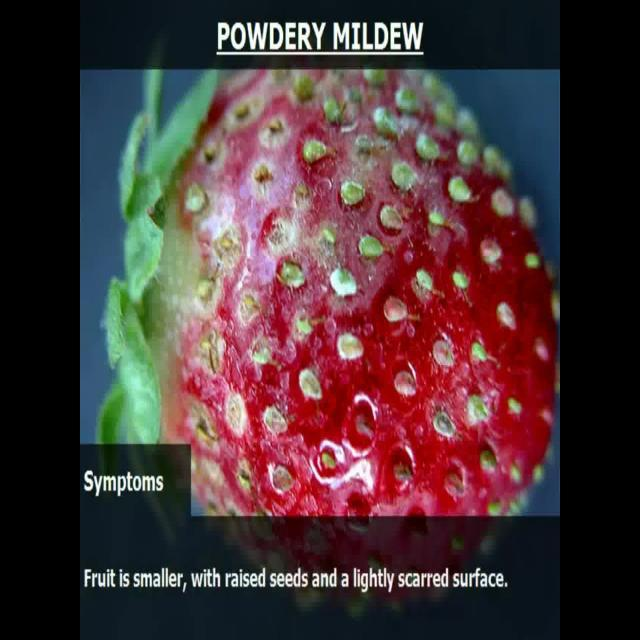Oído: (126, 67, 560, 518)
